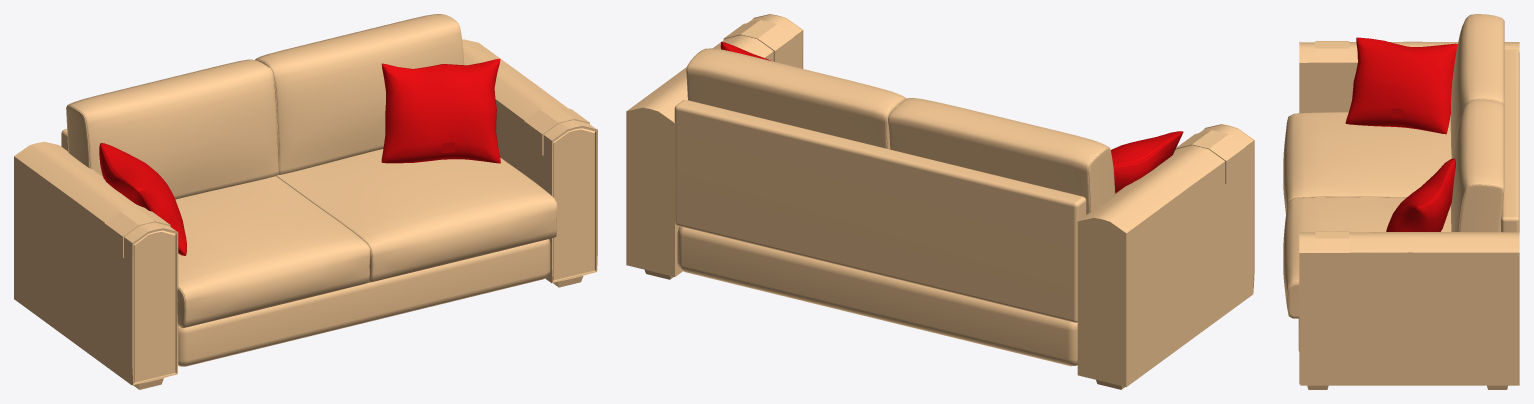
The model's file is model_Modern_Sofa.fbx.
3 views of the same model, side by side, from view 1: azimuth 30°, elevation 25°; view 2: azimuth 150°, elevation 25°; view 3: azimuth 270°, elevation 25° (orthographic). The views are drawn at different scales.
Visible parts, largest first — view 1: uploads_files_882090_Sofa; view 2: uploads_files_882090_Sofa; view 3: uploads_files_882090_Sofa.
Boxes of the visible parts, <box> form: uploads_files_882090_Sofa: <box>14,14,597,389</box>; uploads_files_882090_Sofa: <box>626,14,1254,389</box>; uploads_files_882090_Sofa: <box>1283,14,1519,389</box>.
Size of the model in its own units: 1309 by 556 by 618.
